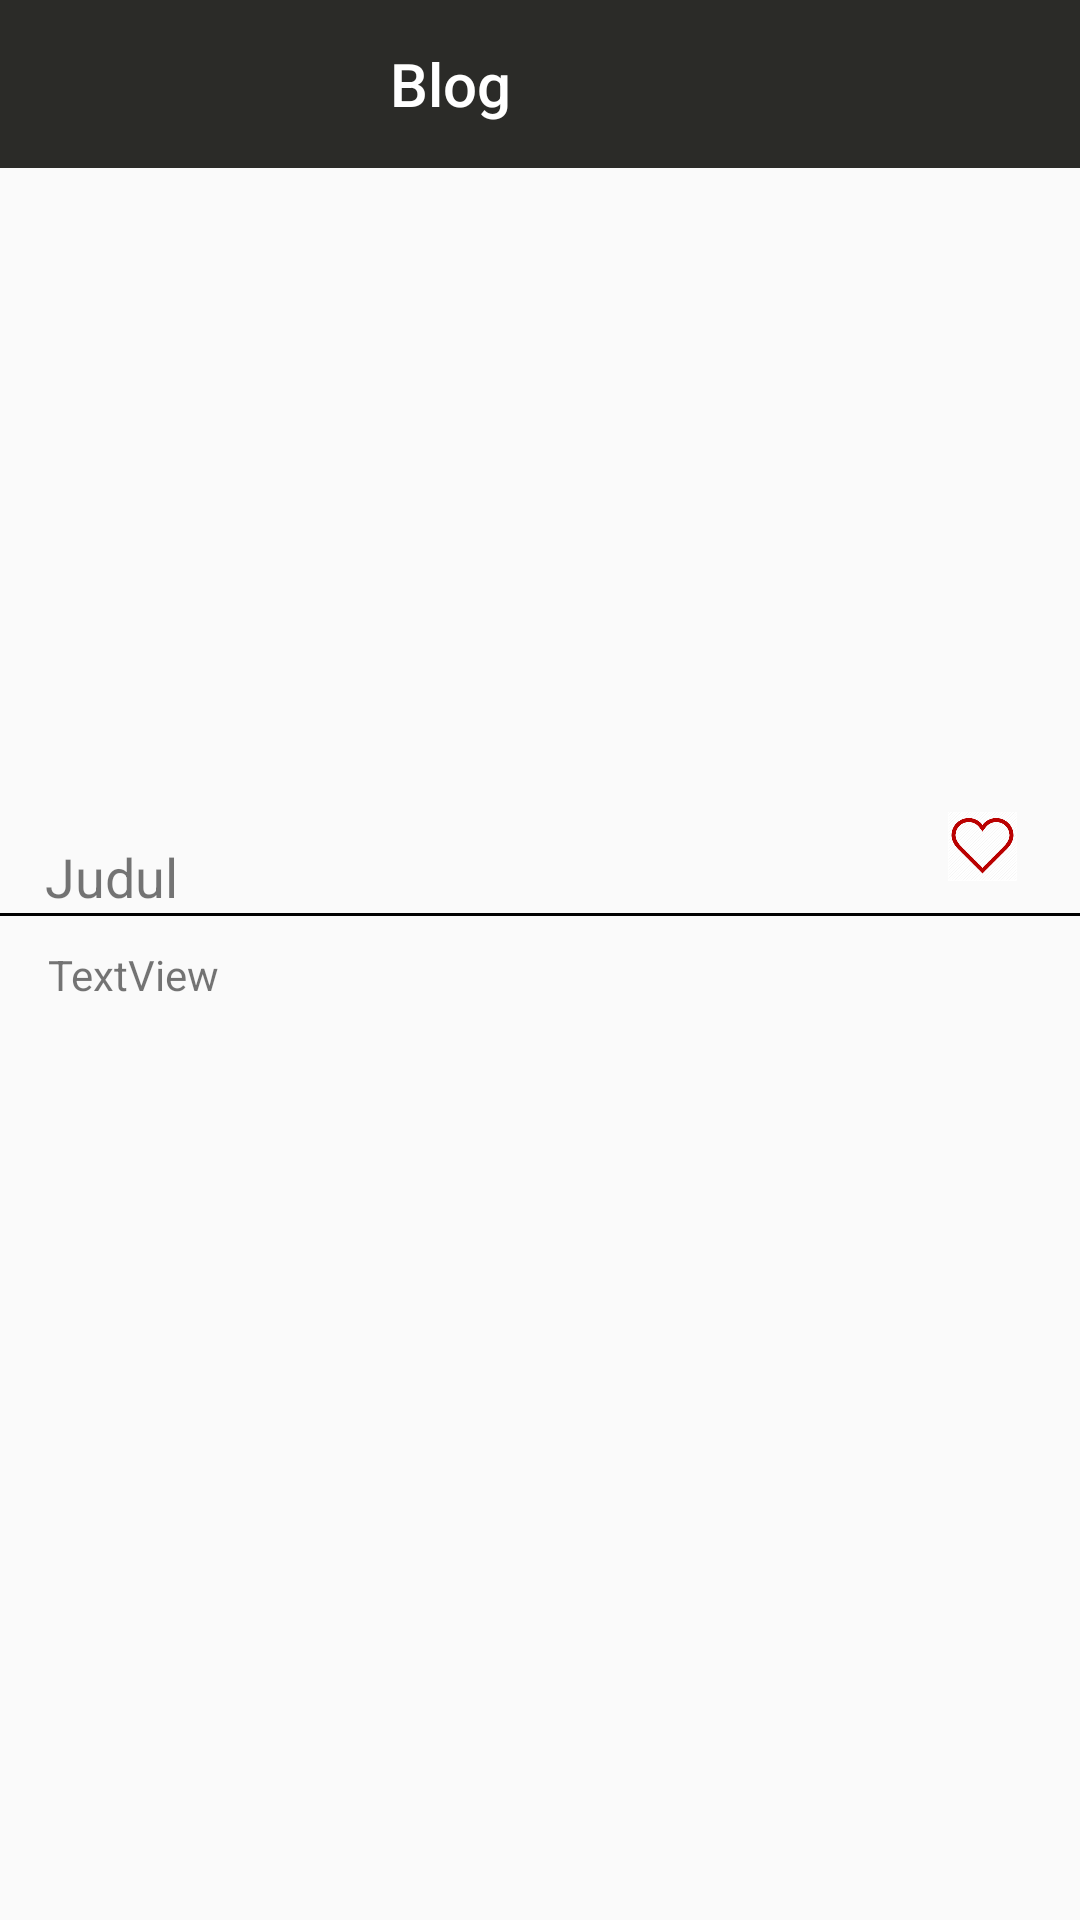

Named icons in this screenshot (1080w x 1920h) and their bounding boxes, bbox(x1, y1, x2, y2):
love: bbox(951, 818, 1014, 874)
